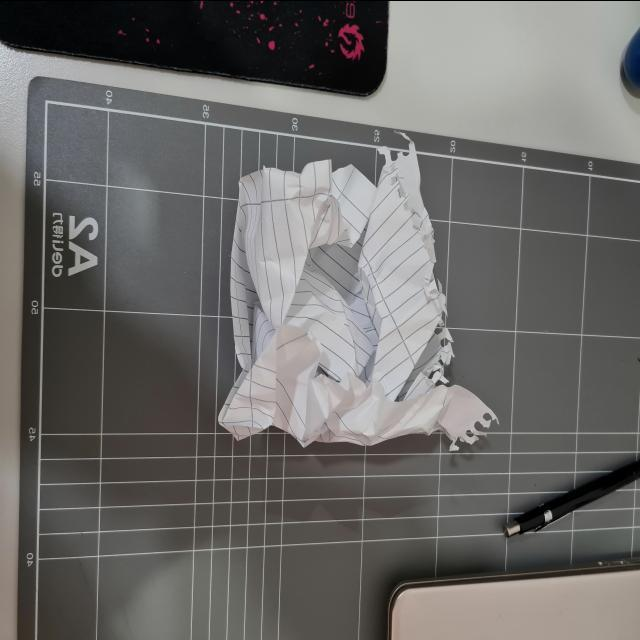Paper: (178, 125, 514, 493)
